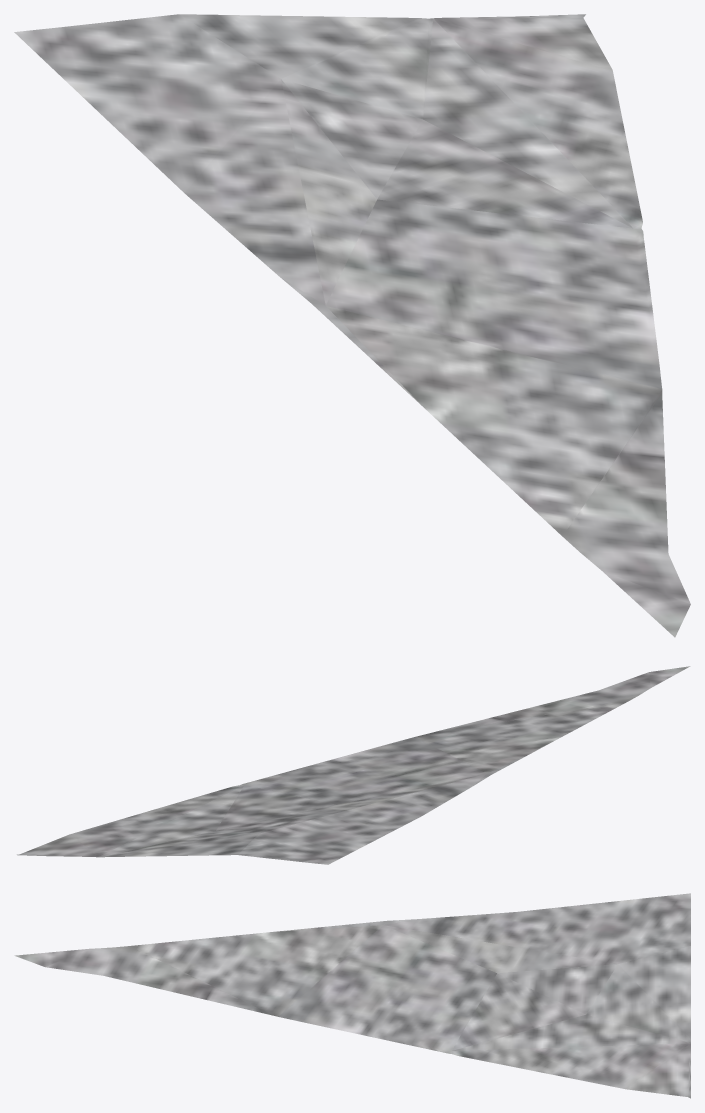
3 views of the same model, one above another, from view 1: azimuth 30°, elevation 25°; view 2: azimuth 150°, elevation 25°; view 3: azimuth 270°, elevation 25° (orthographic). The views are drawn at different scales.
Size of the model in its own units: 0.3145 by 0.0639 by 0.6292.
1 material, 1 textured.
